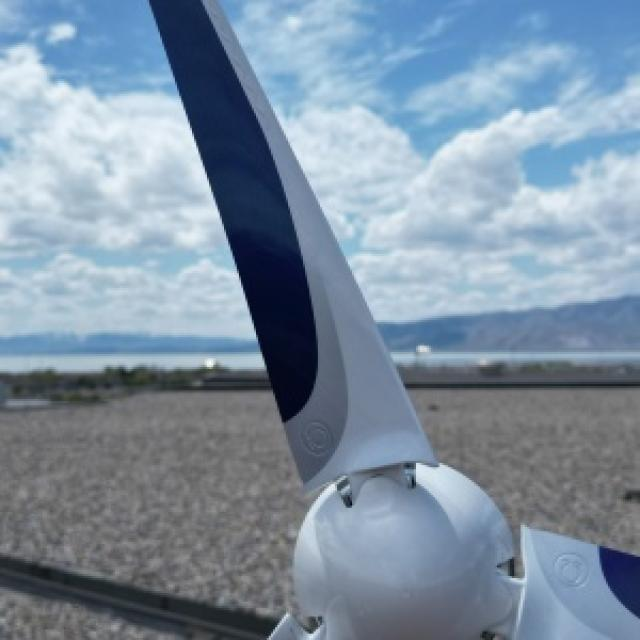healthy: (147, 0, 638, 638), (305, 282, 422, 480)
